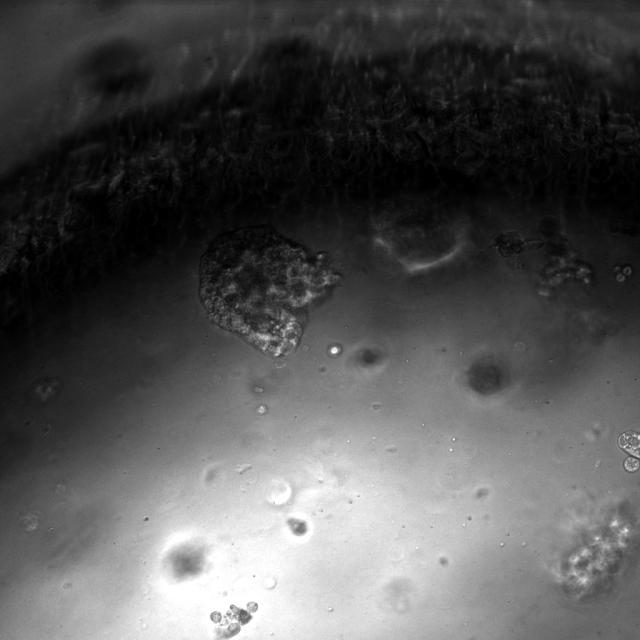organoid: (199, 226, 340, 357), (552, 497, 639, 601), (491, 216, 593, 296), (210, 602, 257, 638), (618, 431, 639, 472), (614, 264, 632, 282)
